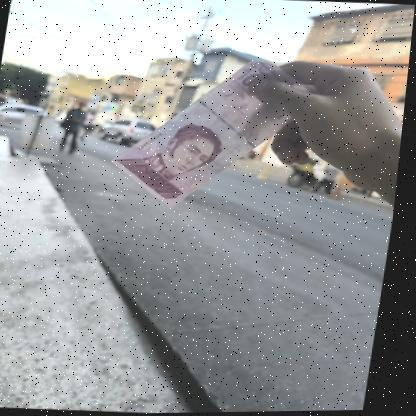one_hundred-front-vef: (105, 52, 319, 216)
